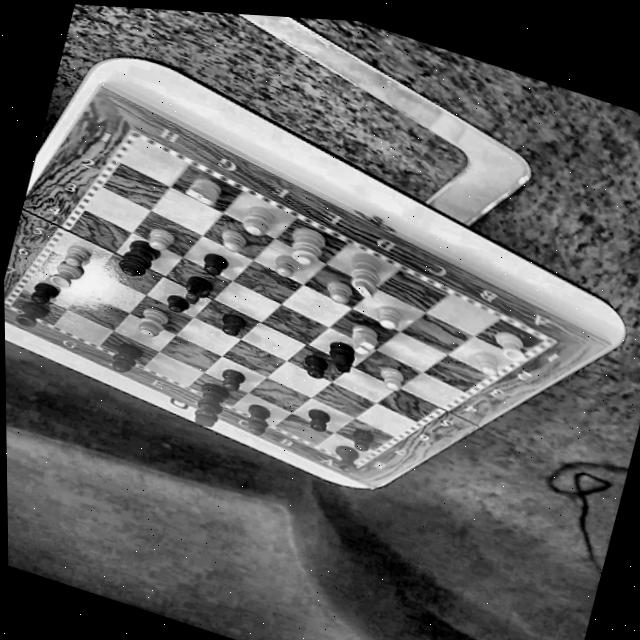chessboard: (10, 138, 543, 460)
